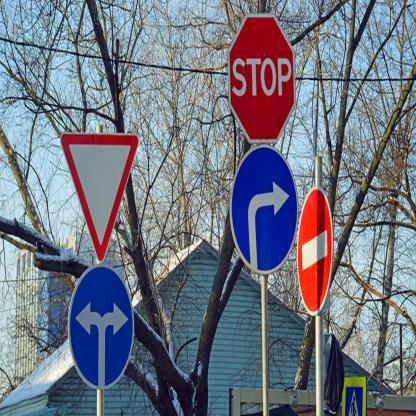road_sign: (61, 134, 140, 264), (228, 14, 298, 144), (232, 146, 298, 274), (69, 266, 135, 392), (296, 187, 337, 319), (339, 371, 369, 416)
